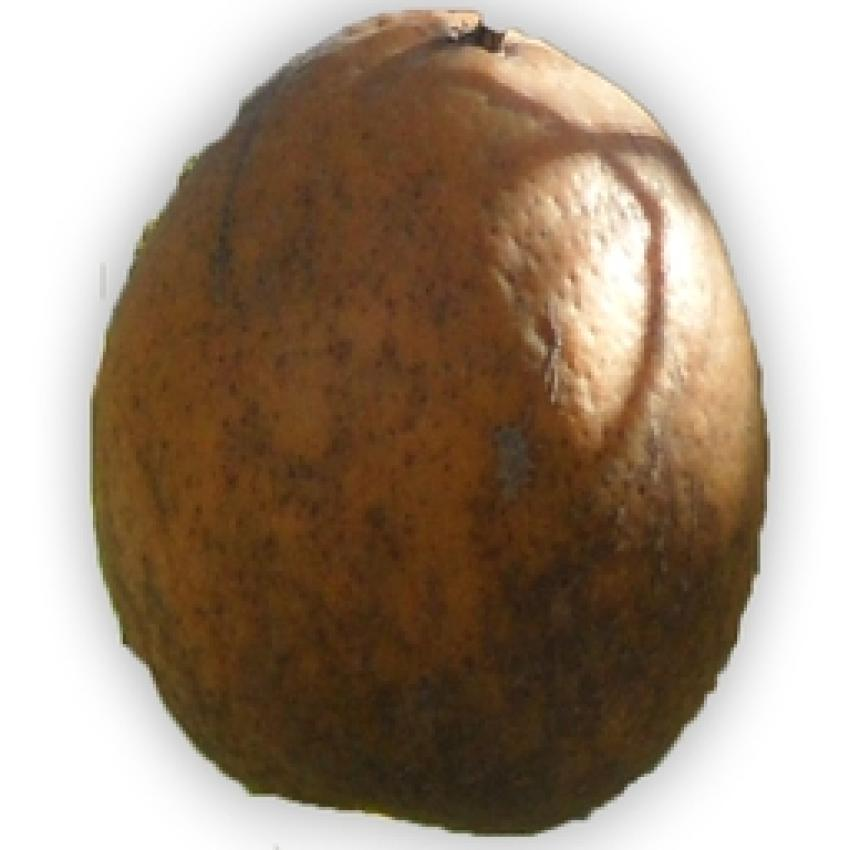Mal estado: (72, 0, 778, 839)
